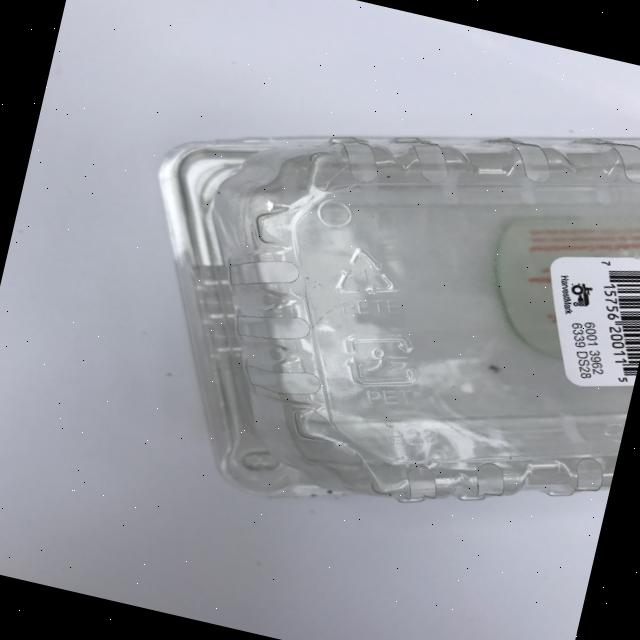plastic: (91, 21, 640, 572)
